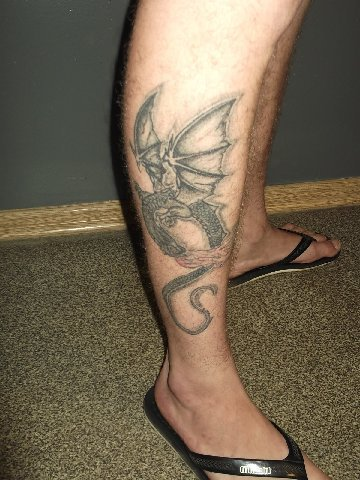tatu6_drakon: (122, 81, 237, 362)
